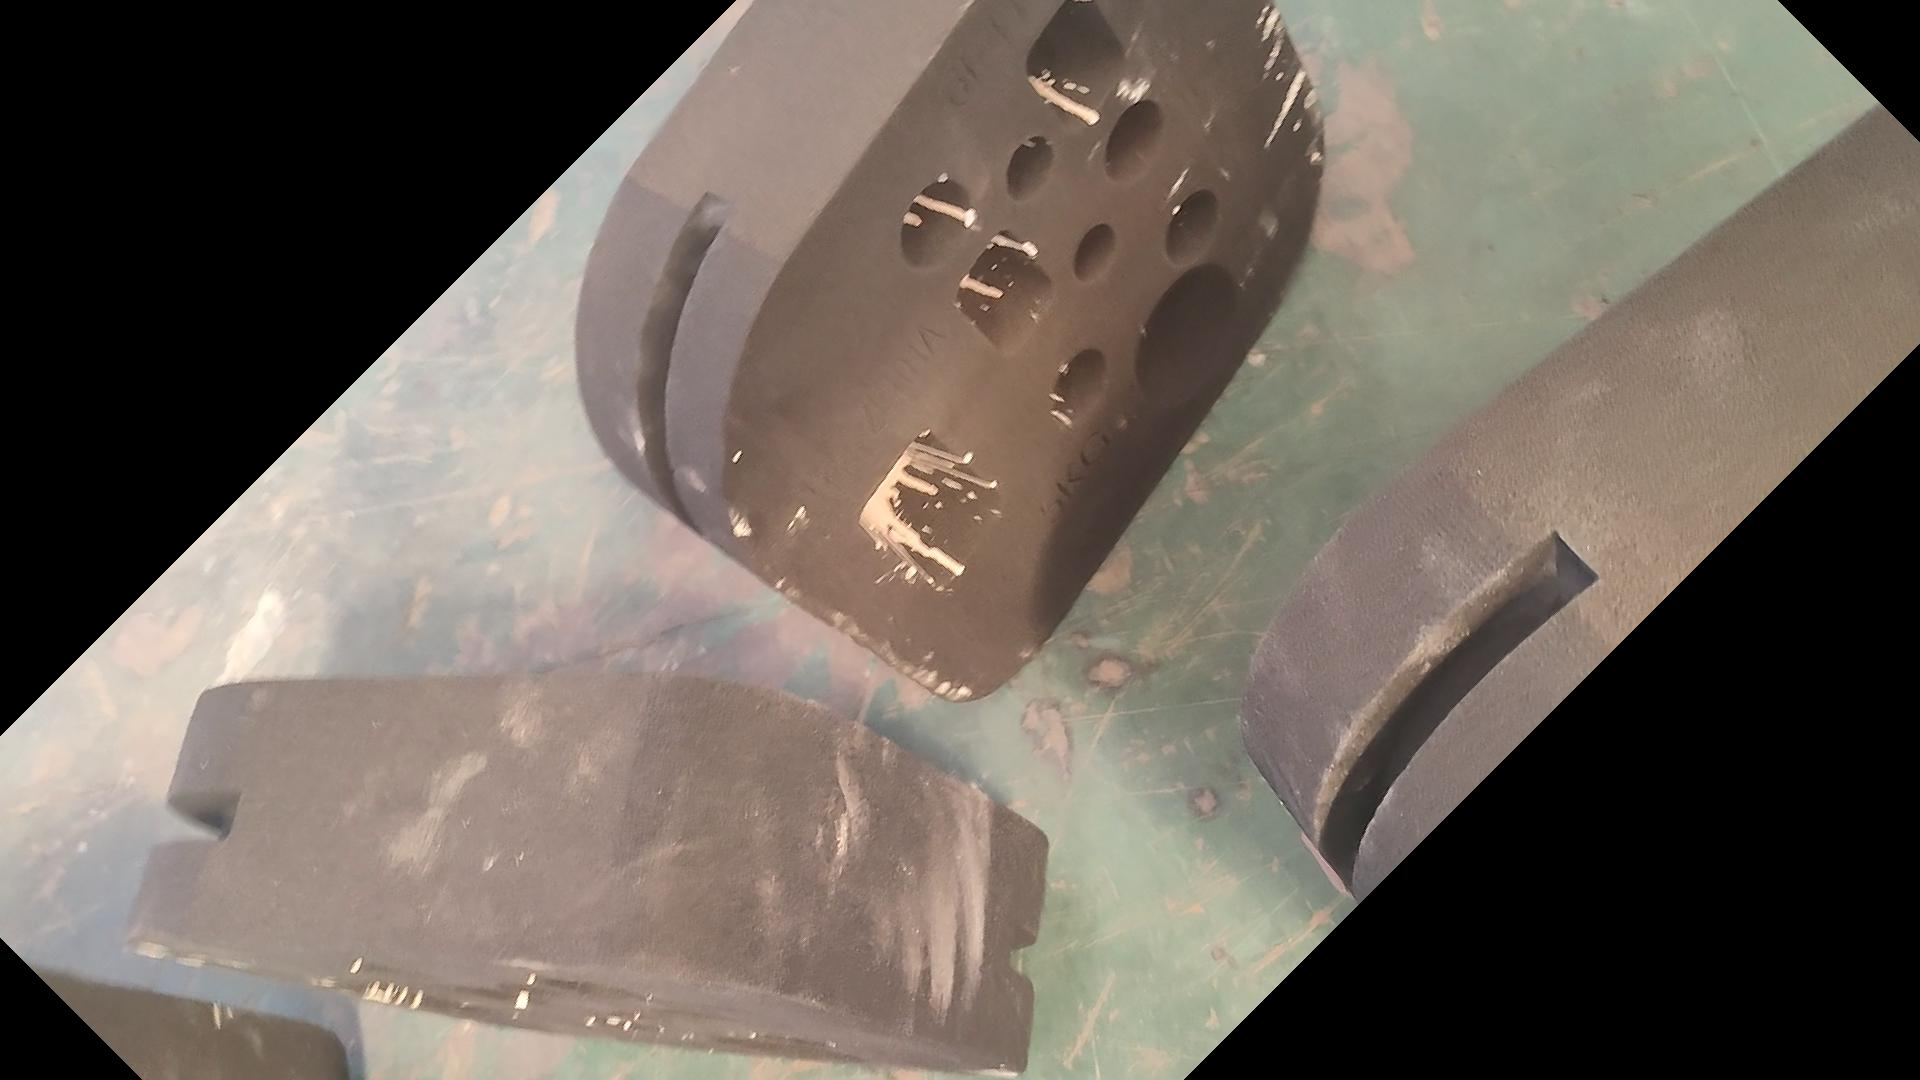pouring hole: (1133, 261, 1240, 400)
